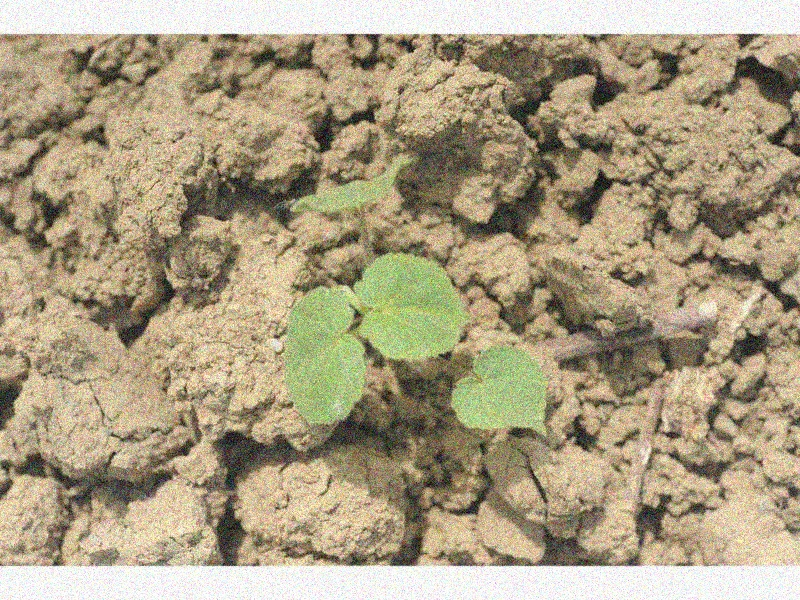velvet: (284, 154, 545, 444)
